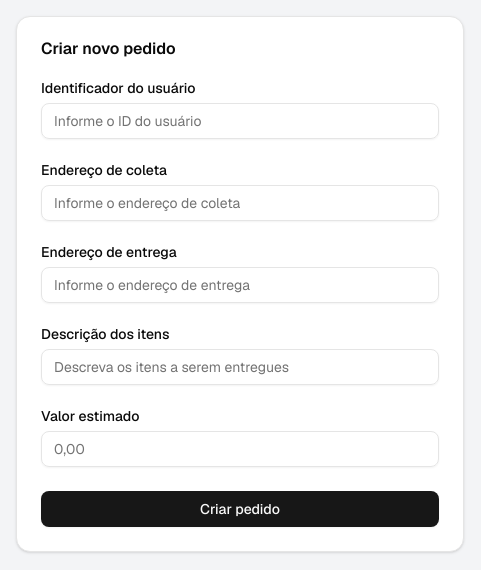
Scenario: OrderNewPage › shows loading state while submitting
Step 1. Type "123" into the number field labelled "Identificador do usuário" → (240, 121), box [41, 103, 439, 139]
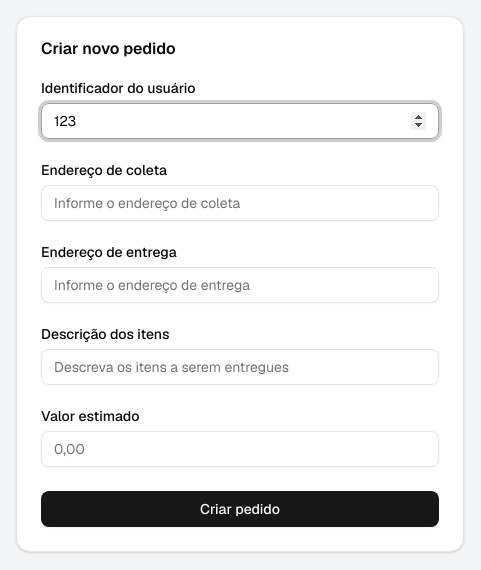
Step 2. Type "Rua A" into the field labelled "Endereço de coleta" → (240, 203), box [41, 185, 439, 221]
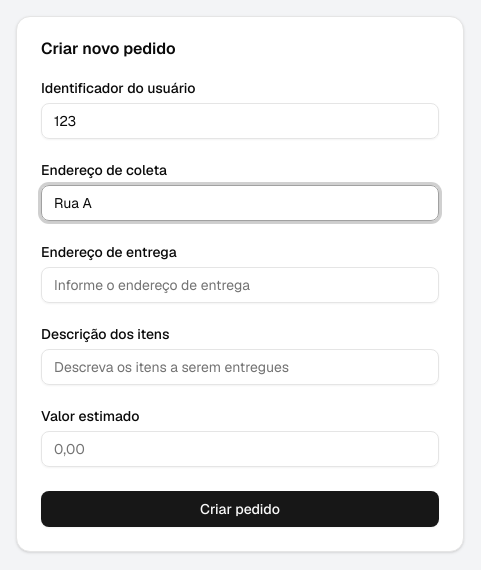
Step 3. Type "Rua B" into the field labelled "Endereço de entrega" → (240, 285), box [41, 267, 439, 303]
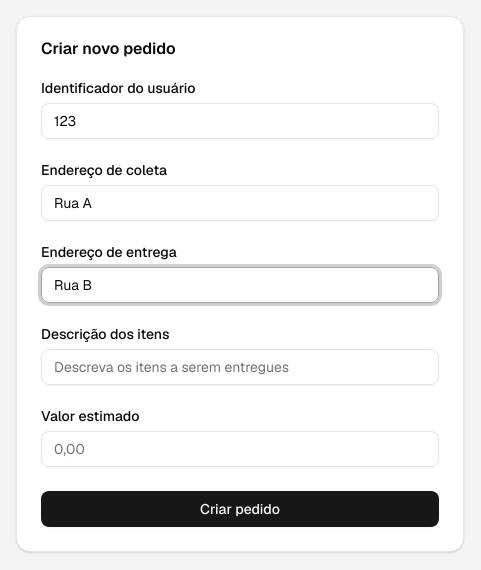
Step 4. Type "Item 1" into the field labelled "Descrição dos itens" → (240, 367), box [41, 349, 439, 385]
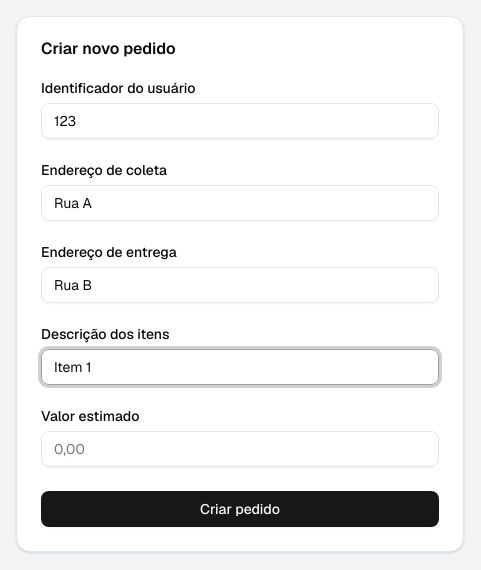
Step 5. Type "100" into the field labelled "Valor estimado" → (240, 449), box [41, 431, 439, 467]
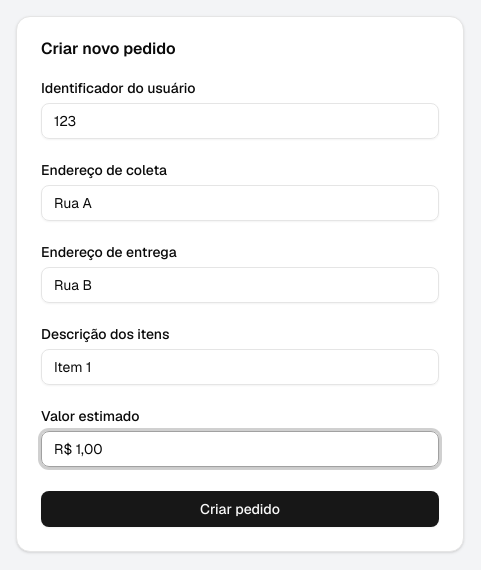
Step 6. Click the button "Criar pedido" → click(240, 509), box [41, 491, 439, 527]
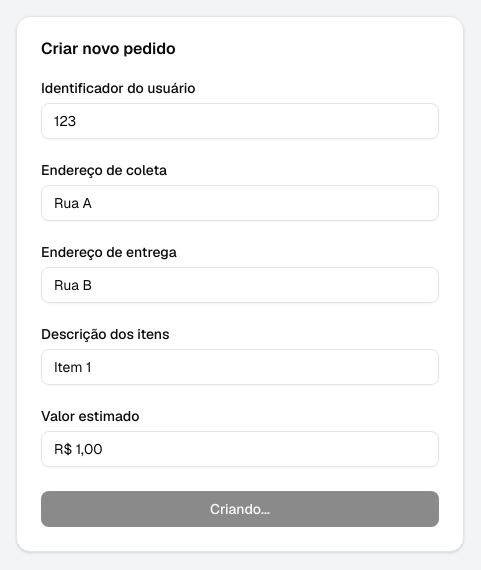
Expected: the button "Criando..." is shown, [41, 491, 439, 527]
